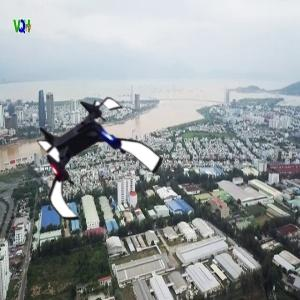drone: (25, 96, 155, 226)
